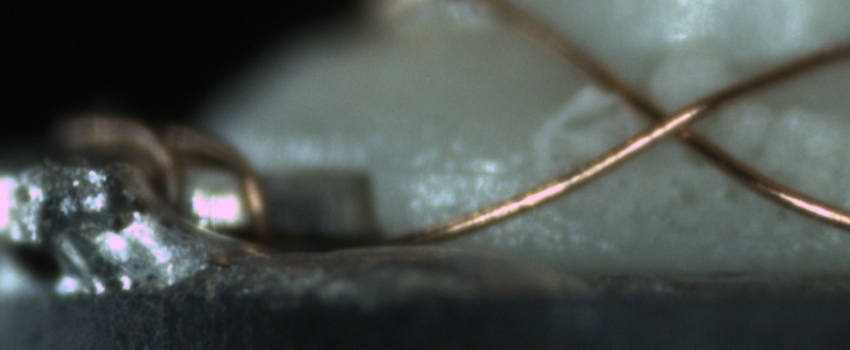CL: (623, 88, 714, 156)
DL: (406, 142, 526, 202)
TE: (54, 107, 279, 254)
